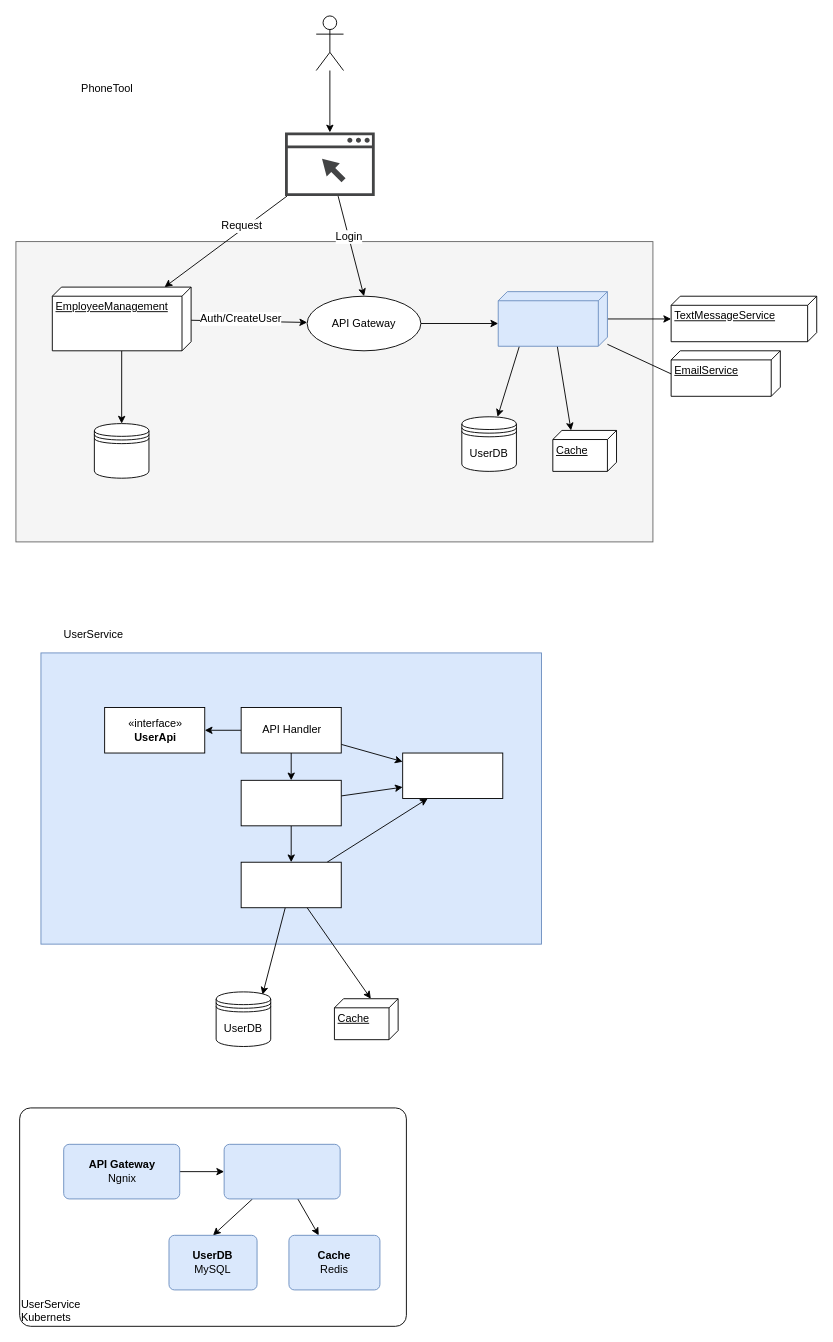
This 833x1342 diagram has some shape labels left out. Each missing label, with the centre of its shape:
Actor: (x=329, y=43)
DAO: (x=290, y=884)
Employee: (x=121, y=450)
UseCase: (x=290, y=802)
User Service: (x=552, y=318)
User Service SpringBoot Rest: (x=281, y=1171)
UserEntity: (x=452, y=775)
